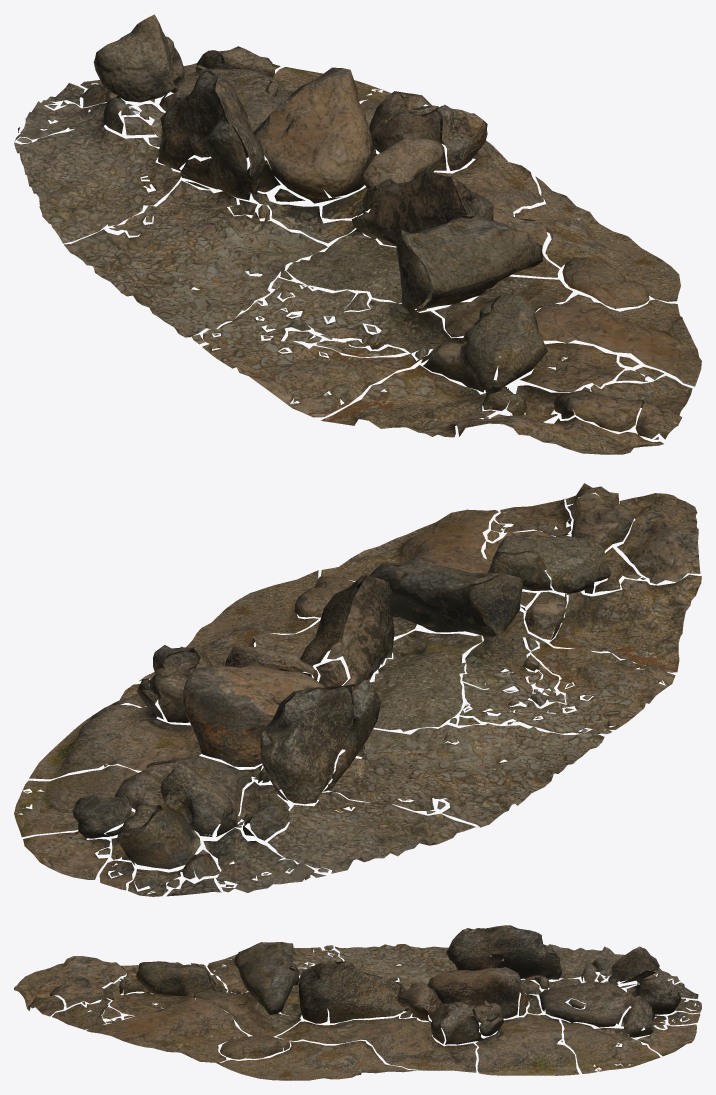
The model's file is coast_land_rocks_02.glb.
3 views of the same model, one above another, from view 1: azimuth 30°, elevation 25°; view 2: azimuth 150°, elevation 25°; view 3: azimuth 270°, elevation 25° (orthographic). The views are drawn at different scales.
Visible parts, largest first — view 1: coast_land_rocks_02; view 2: coast_land_rocks_02; view 3: coast_land_rocks_02.
Boxes of the visible parts, left/top/right/bottom form: coast_land_rocks_02: left=14, top=14, right=701, bottom=454; coast_land_rocks_02: left=14, top=483, right=701, bottom=896; coast_land_rocks_02: left=14, top=925, right=701, bottom=1080.
Size of the model in its own units: 4.86 by 1.36 by 10.42.
1 material, 1 textured.
